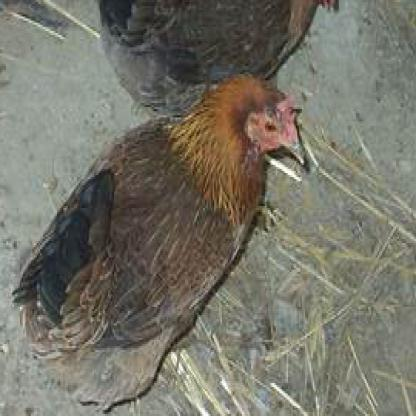chicken: (10, 72, 306, 408), (89, 0, 378, 107)
